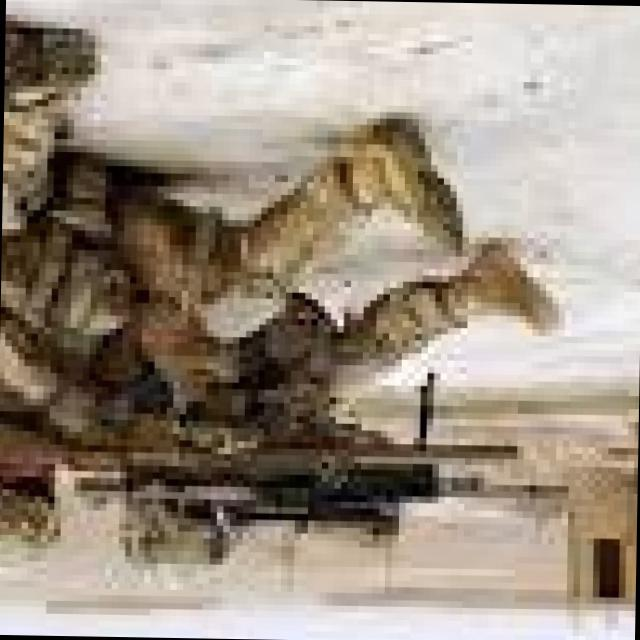Gun: (36, 330, 574, 554)
